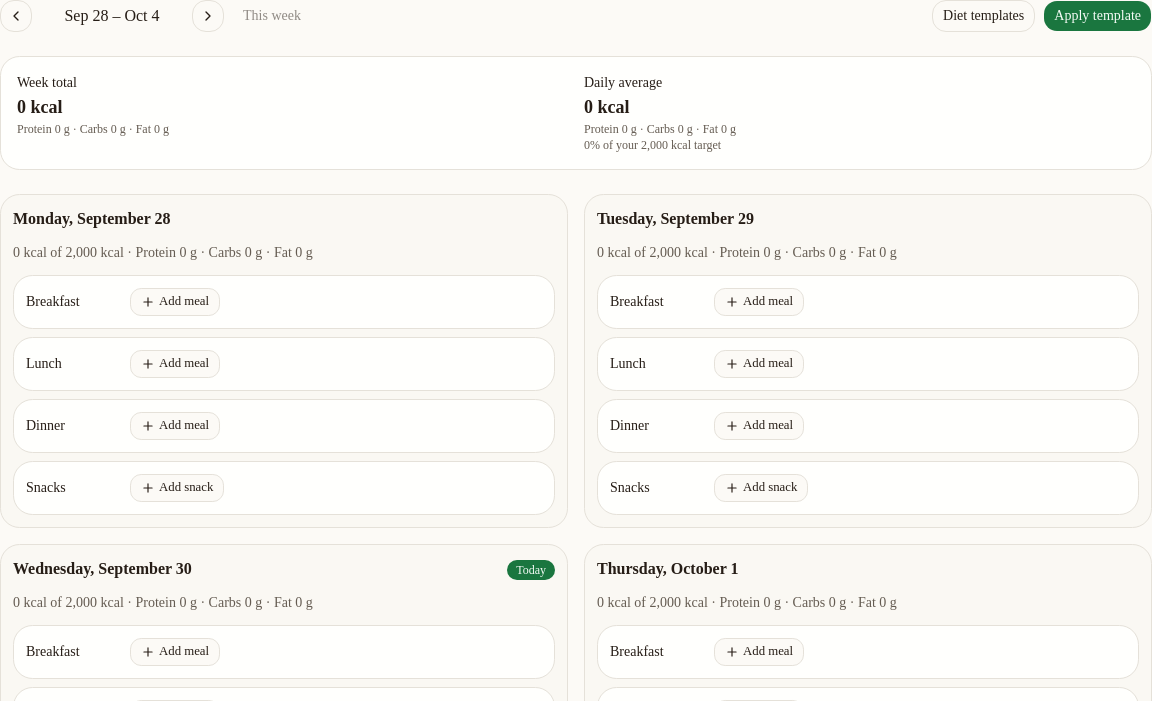
Test: applying a template › applies my template from the chosen date, then shows the week that date is in
Check: the text "Sep 28 – Oct 4" is shown, box [64,7,160,24]
Click the button "Apply template": [1098, 16] box [1043,0,1151,32]
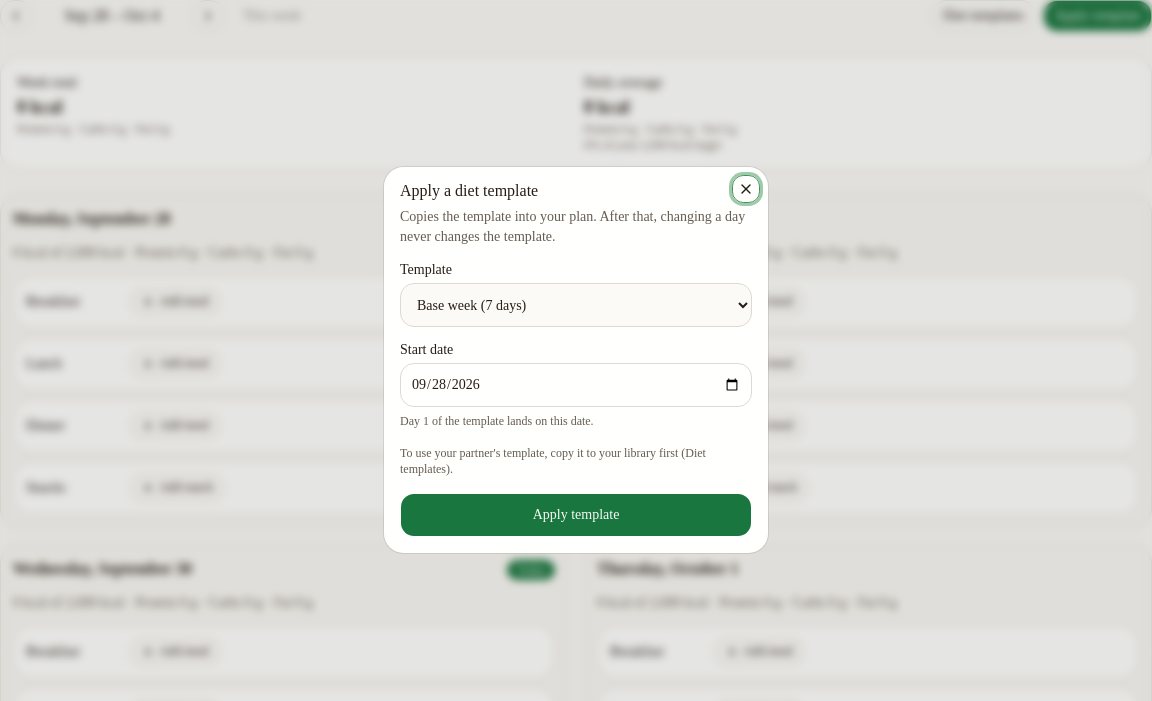
Check: the date field labelled "Start date" holds "2026-09-28"
In the date field labelled "Start date": [576, 385] box [400,363,752,407], type "2026-10-05"
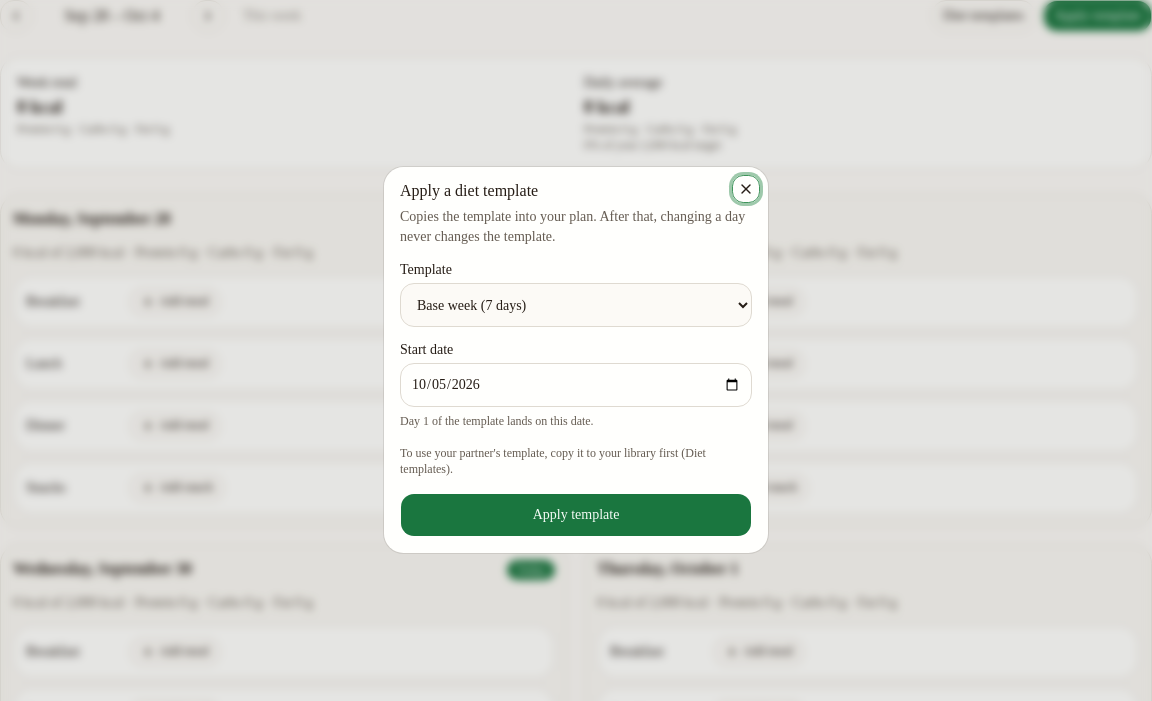
Click the button "Apply template": [576, 515] box [400,493,752,537]
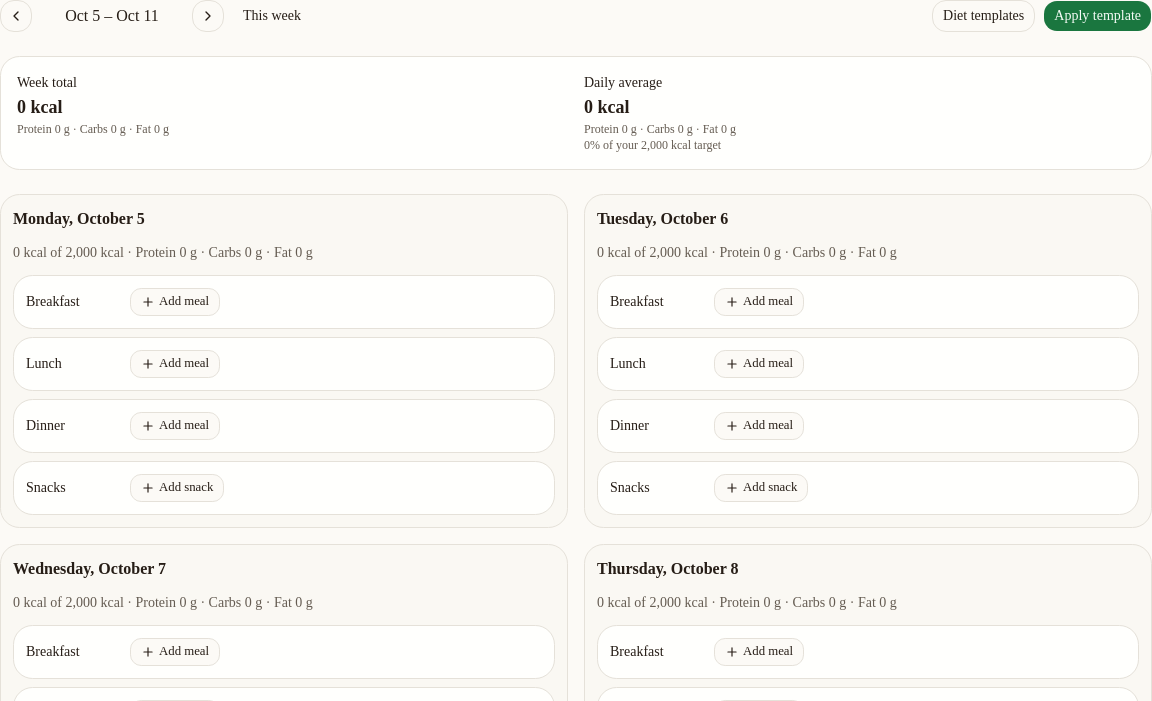
Check: the text "Oct 5 – Oct 11" is shown, box [65,7,159,24]
Check: the dialog is gone
